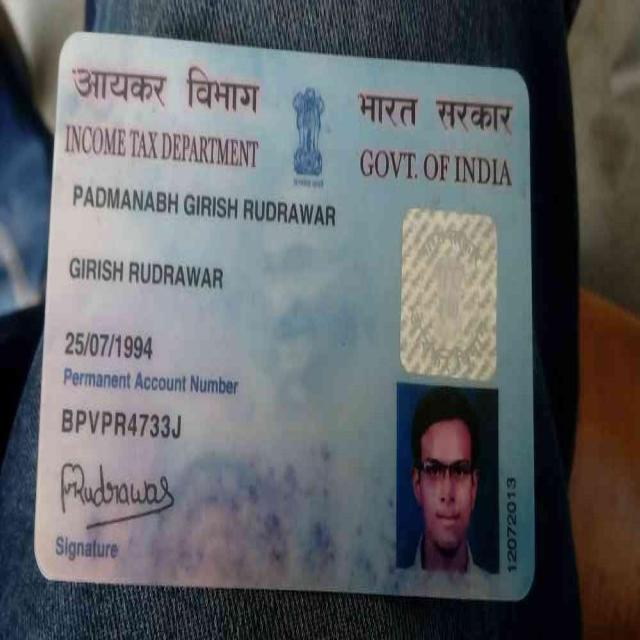pan_card: (38, 38, 524, 595)
